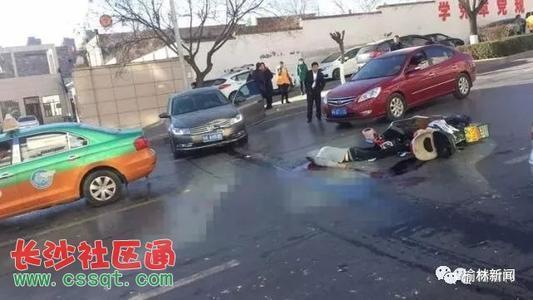Fall-Detected: (301, 128, 389, 174)
